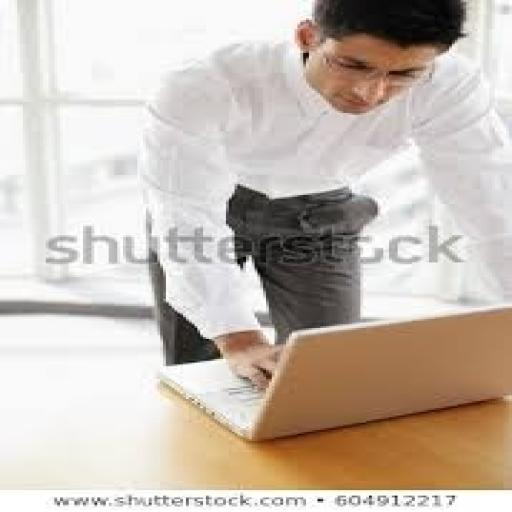using_laptop: (155, 302, 509, 443)
